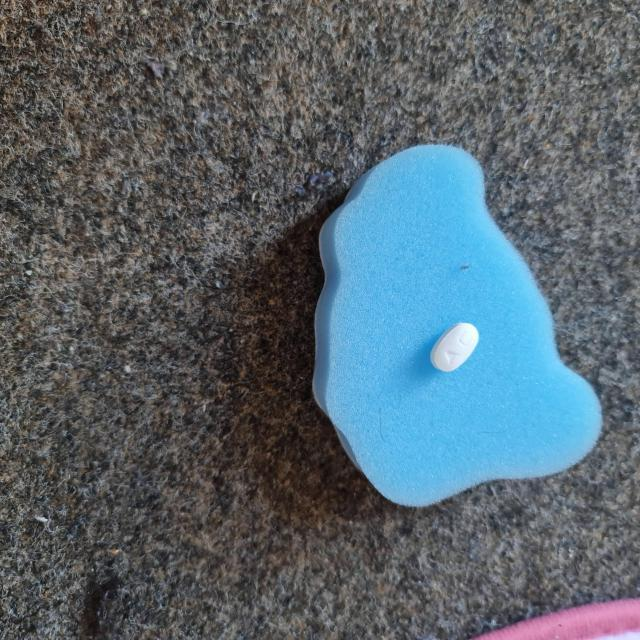pill: (432, 320, 478, 370)
